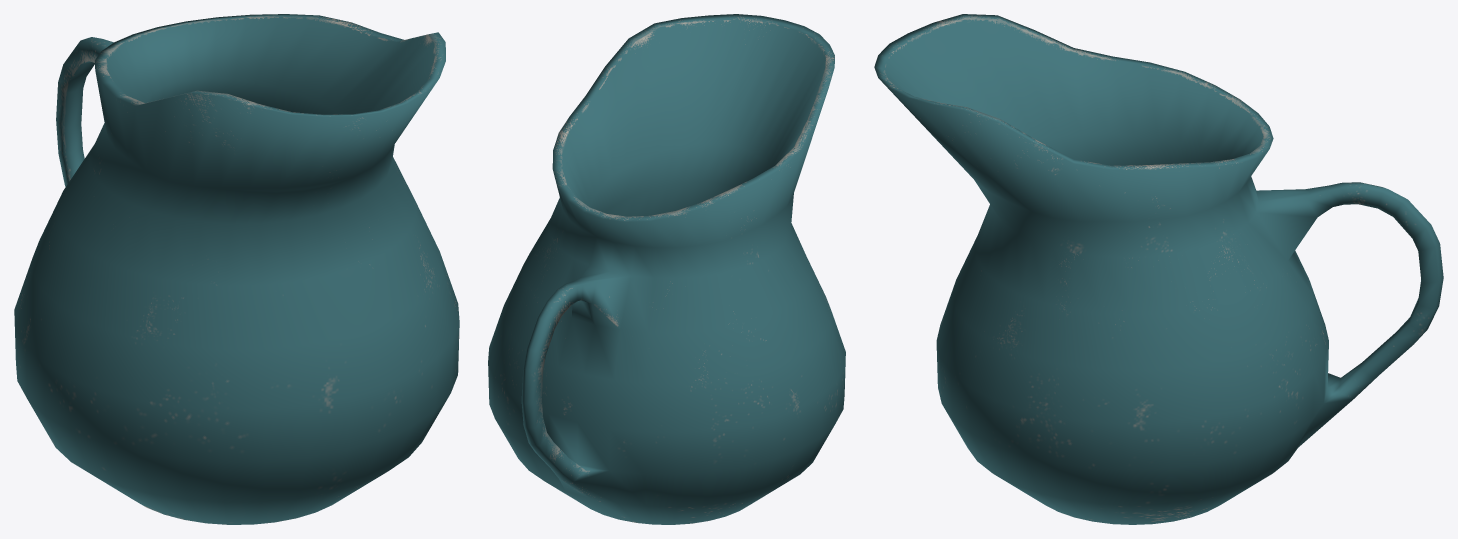
The model's file is caraffa.fbx.
3 renders of one model, left to right at view 1: azimuth 30°, elevation 25°; view 2: azimuth 150°, elevation 25°; view 3: azimuth 270°, elevation 25°, orthographic. The views are drawn at different scales.
Visible parts, largest first — view 1: caraffa; view 2: caraffa; view 3: caraffa.
Part boxes in pixels (<box>): caraffa: <box>14,14,459,524</box>; caraffa: <box>488,14,845,524</box>; caraffa: <box>874,14,1443,524</box>.
Bounding box in the file's own units: 17.56 × 20.65 × 25.47.
